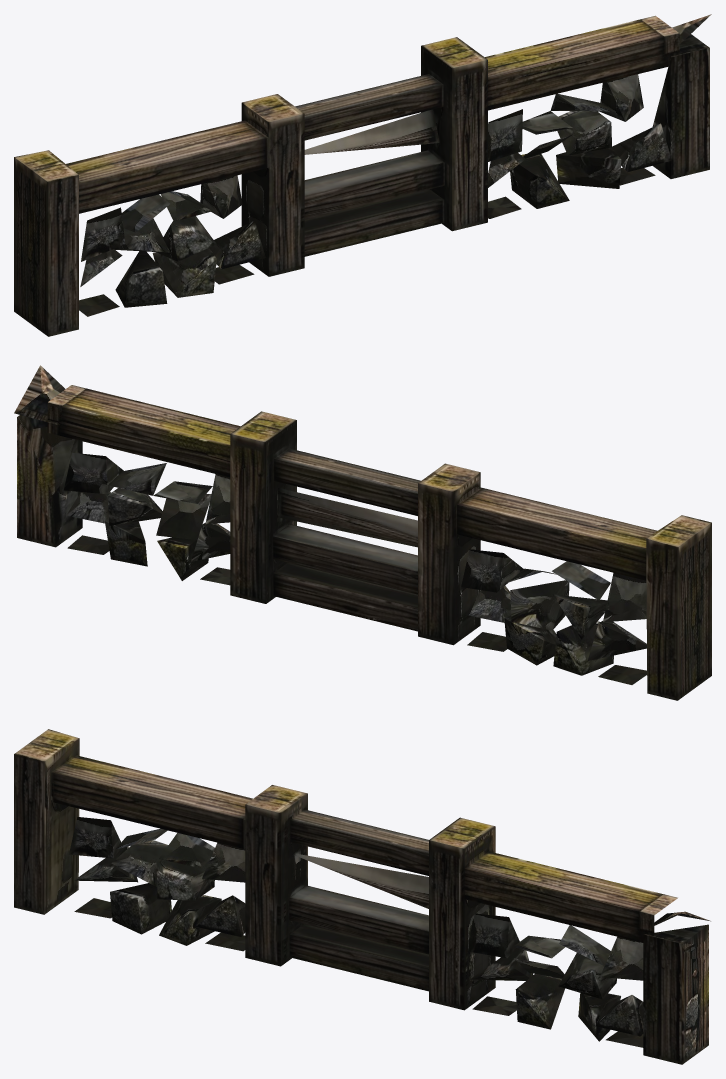
File: act1_kit_v1_weir.glb
3 views of the same model, one above another, from view 1: azimuth 30°, elevation 25°; view 2: azimuth 150°, elevation 25°; view 3: azimuth 330°, elevation 25° (orthographic).
Parts seen in each view (by area): view 1: A07_2_weir; view 2: A07_2_weir; view 3: A07_2_weir.
Part boxes in pixels (x1,y1,x2,y2): A07_2_weir: (14, 14, 711, 336); A07_2_weir: (14, 365, 711, 700); A07_2_weir: (14, 729, 710, 1064).
Size of the model in its own units: 0.9951 by 0.232 by 0.0987.
1 material, 1 textured.
